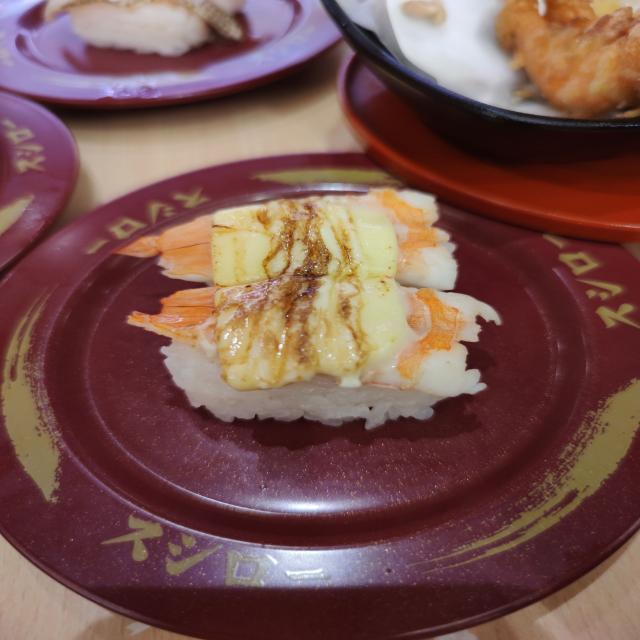janred: (8, 154, 628, 640), (0, 0, 343, 102), (5, 99, 73, 252)
